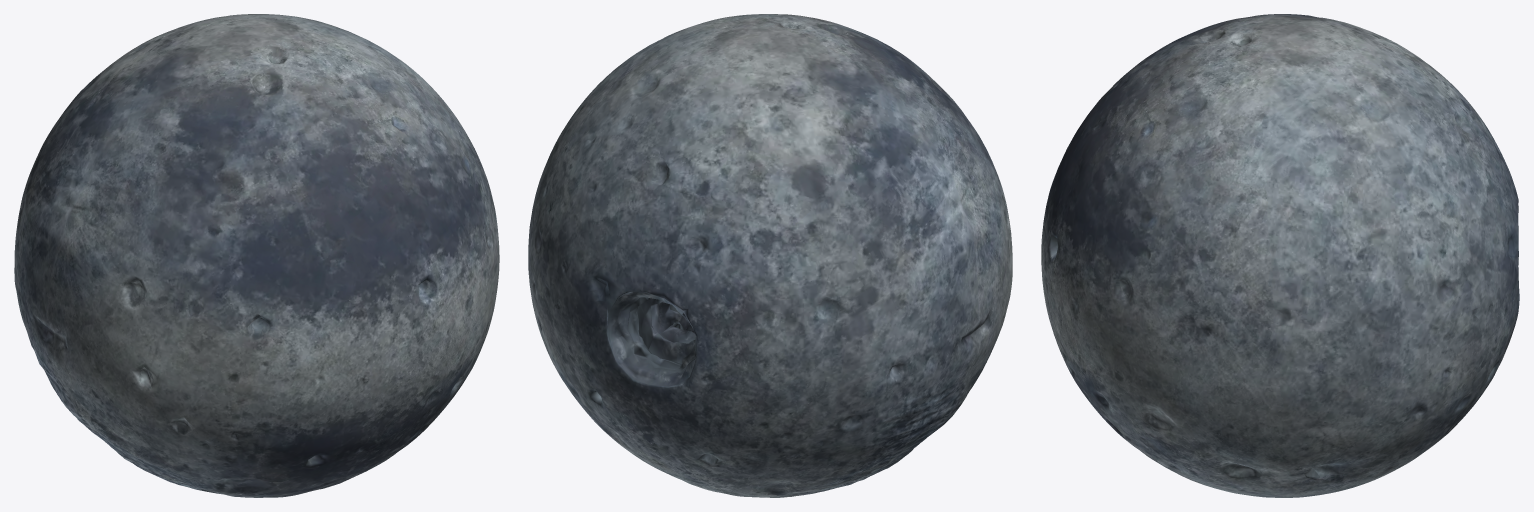
Rendered from moon.glb.
3 renders of one model, left to right at view 1: azimuth 30°, elevation 25°; view 2: azimuth 150°, elevation 25°; view 3: azimuth 270°, elevation 25°, orthographic.
Visible parts, largest first — view 1: tripo_node_2a4fe143-cd85-4911-8a34-4503e483a316; view 2: tripo_node_2a4fe143-cd85-4911-8a34-4503e483a316; view 3: tripo_node_2a4fe143-cd85-4911-8a34-4503e483a316.
Boxes of the visible parts, box(x1,y1,x2,y2) form: tripo_node_2a4fe143-cd85-4911-8a34-4503e483a316: box(14, 14, 499, 497); tripo_node_2a4fe143-cd85-4911-8a34-4503e483a316: box(528, 14, 1012, 497); tripo_node_2a4fe143-cd85-4911-8a34-4503e483a316: box(1041, 14, 1519, 497).
Bounding box in the file's own units: 0.9793 × 0.9796 × 0.9663.
Materials: 1 (1 with a texture image).
